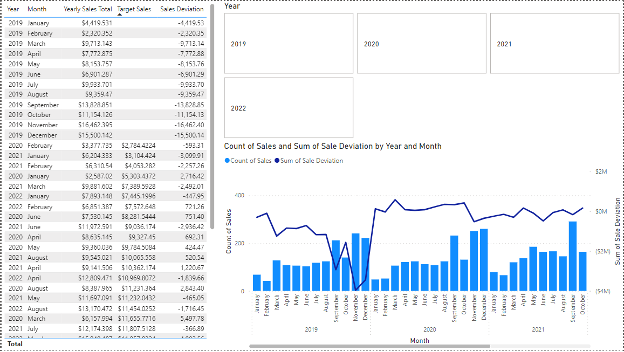

The dashboard page shown, as its layout file describes it:
{"tool":"powerbi","page":{"name":"Table","canvas":[1280,720],"ordinal":4},"visuals":[{"type":"tableEx","fields":{"Values":["Whole_Store_data.Month Year.Variation.Date Hierarchy.Year","Whole_Store_data.Month Year.Variation.Date Hierarchy.Month","Whole_Store_data.Yearly Sales Total","Whole_Store_data.Target Sales","select1"]},"box":[0,0,453.3,720],"z":0},{"type":"lineClusteredColumnComboChart","fields":{"Y2":["Avg(Whole_Store_data.Sale Deviation)"],"Y":["Sum(Whole_Store_data.Sales)"],"Category":["Whole_Store_data.Month Year.Variation.Date Hierarchy.Year","Whole_Store_data.Month Year.Variation.Date Hierarchy.Month"]},"box":[453.3,288.3,826.7,431.7],"z":1000},{"type":"advancedSlicerVisual","fields":{"Values":["Whole_Store_data.Year"]},"box":[453,0,827,288],"z":2000}]}

Visuals, with their boxes in screenshot pixels (x1, y1, x2, y2), scaled from the page's 1280x720 canvas onto the 624x352 screenshot:
tableEx - Whole_Store_data.Month Year.Variation.Date Hierarchy.Year x Whole_Store_data.Month Year.Variation.Date Hierarchy.Month: [0, 0, 221, 351]
lineClusteredColumnComboChart - Avg(Whole_Store_data.Sale Deviation) x Sum(Whole_Store_data.Sales): [221, 141, 623, 351]
advancedSlicerVisual - Whole_Store_data.Year: [221, 0, 623, 141]
